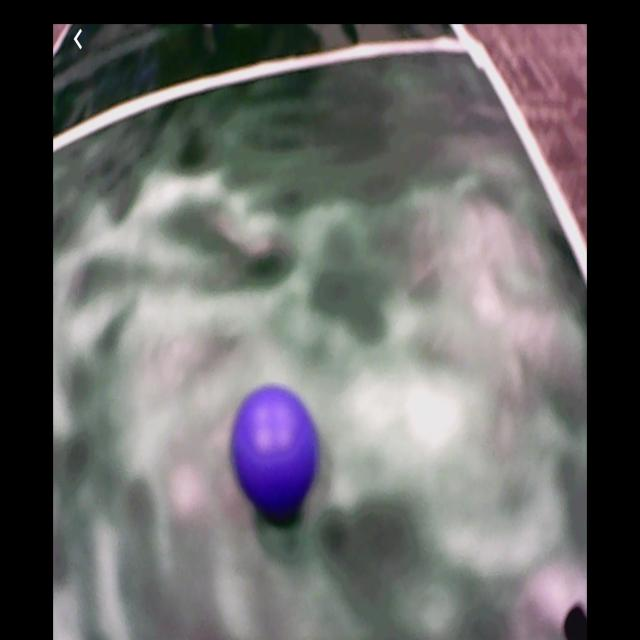ball: (234, 383, 318, 519)
